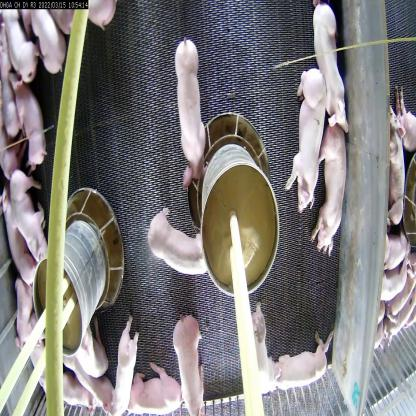Pig: (171, 38, 215, 186), (290, 59, 326, 220), (312, 0, 354, 136), (8, 158, 52, 286), (147, 209, 211, 290), (169, 301, 211, 415), (244, 307, 290, 408), (107, 318, 152, 415), (272, 327, 332, 396), (308, 110, 337, 245), (127, 359, 188, 415), (4, 76, 51, 147), (4, 200, 34, 292), (38, 10, 70, 62), (10, 21, 36, 71)
